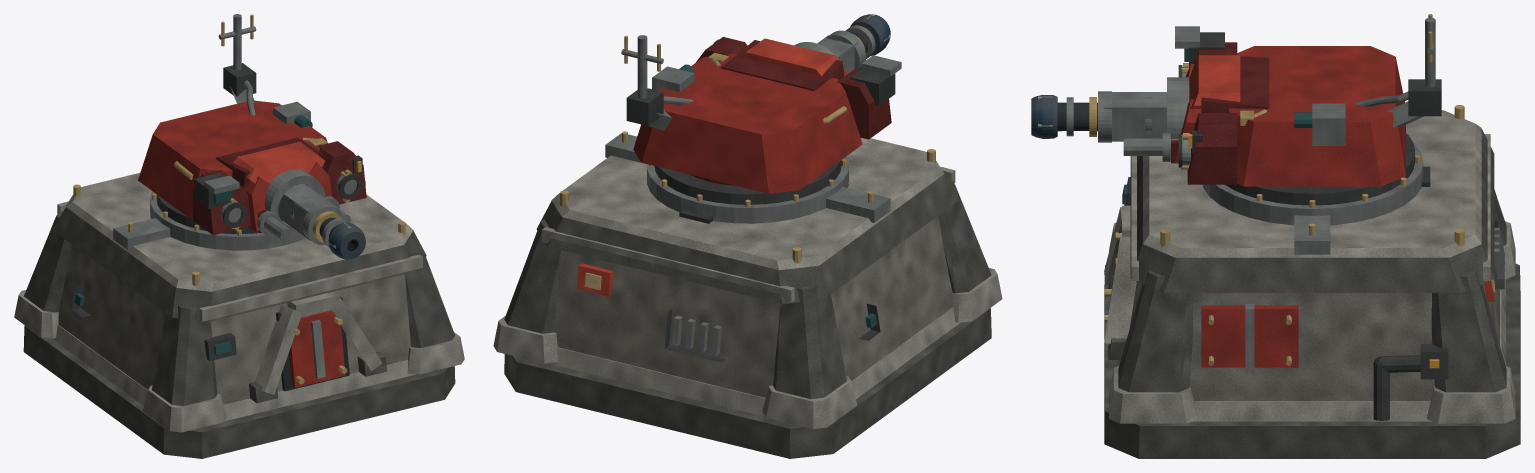
File: martian_heavy_weapon_bunker_v06_textured_export.glb
The picture shows the model from 3 angles, left to right: view 1: azimuth 30°, elevation 25°; view 2: azimuth 150°, elevation 25°; view 3: azimuth 270°, elevation 25°; orthographic projection. The views are drawn at different scales.
Parts seen in each view (by area): view 1: 03_monolithic_bunker_mass, 01_foundation_granular_ferrocrete, 05_top_concrete_skin, 16_martian_red_turret_armor, 04_upper_blast_cap, 06_corner_armor_buttress_WS, 02_lower_blast_raft, 53_south_slab_anchor_strip, 06_corner_armor_buttress_ES, 09_steel_service_hatch, 06_corner_armor_buttress_WN, 13_ring_lower_bearing_seat (+25 smaller); view 2: 03_monolithic_bunker_mass, 16_martian_red_turret_armor, 05_top_concrete_skin, 01_foundation_granular_ferrocrete, 04_upper_blast_cap, 02_lower_blast_raft, 06_corner_armor_buttress_WN, 13_ring_lower_bearing_seat, 06_corner_armor_buttress_EN, 06_corner_armor_buttress_WS, 14_ring_open_bearing_race, 07_corner_buttress_foot_WN (+18 smaller); view 3: 05_top_concrete_skin, 16_martian_red_turret_armor, 03_monolithic_bunker_mass, 01_foundation_granular_ferrocrete, 04_upper_blast_cap, 06_corner_armor_buttress_ES, 06_corner_armor_buttress_EN, 55_east_wall_controller_armor, 02_lower_blast_raft, 13_ring_lower_bearing_seat, 18_turret_front_cheek_E, 07_corner_buttress_foot_ES (+25 smaller).
Boxes of the visible parts, <box> form: 03_monolithic_bunker_mass: <box>58,243,410,404</box>; 01_foundation_granular_ferrocrete: <box>23,325,455,458</box>; 05_top_concrete_skin: <box>65,173,413,291</box>; 16_martian_red_turret_armor: <box>138,100,327,220</box>; 04_upper_blast_cap: <box>52,207,426,321</box>; 06_corner_armor_buttress_WS: <box>152,305,217,405</box>; 02_lower_blast_raft: <box>51,324,416,421</box>; 53_south_slab_anchor_strip: <box>199,254,422,321</box>; 06_corner_armor_buttress_ES: <box>404,247,454,347</box>; 09_steel_service_hatch: <box>288,310,345,387</box>; 06_corner_armor_buttress_WN: <box>24,211,70,312</box>; 13_ring_lower_bearing_seat: <box>150,191,305,250</box>; 03_monolithic_bunker_mass: <box>554,215,952,397</box>; 16_martian_red_turret_armor: <box>633,53,862,193</box>; 05_top_concrete_skin: <box>551,136,944,270</box>; 01_foundation_granular_ferrocrete: <box>504,308,991,458</box>; 04_upper_blast_cap: <box>536,174,959,303</box>; 02_lower_blast_raft: <box>548,307,960,416</box>; 06_corner_armor_buttress_WN: <box>773,286,846,398</box>; 13_ring_lower_bearing_seat: <box>647,156,848,223</box>; 06_corner_armor_buttress_EN: <box>504,219,561,333</box>; 06_corner_armor_buttress_WS: <box>938,179,991,293</box>; 14_ring_open_bearing_race: <box>654,160,841,204</box>; 07_corner_buttress_foot_WN: <box>762,375,857,428</box>; 05_top_concrete_skin: <box>1143,110,1481,257</box>; 16_martian_red_turret_armor: <box>1228,46,1405,186</box>; 03_monolithic_bunker_mass: <box>1130,262,1499,400</box>; 01_foundation_granular_ferrocrete: <box>1104,263,1520,458</box>; 04_upper_blast_cap: <box>1130,129,1494,292</box>; 06_corner_armor_buttress_ES: <box>1118,270,1193,392</box>; 06_corner_armor_buttress_EN: <box>1431,270,1506,392</box>; 55_east_wall_controller_armor: <box>1201,305,1298,367</box>; 02_lower_blast_raft: <box>1118,279,1505,421</box>; 13_ring_lower_bearing_seat: <box>1203,143,1423,225</box>; 18_turret_front_cheek_E: <box>1187,113,1237,184</box>; 07_corner_buttress_foot_ES: <box>1109,366,1197,423</box>.
Bounding box in the file's own units: 3.04 × 3.01 × 3.53.
17 materials, 17 textured.
